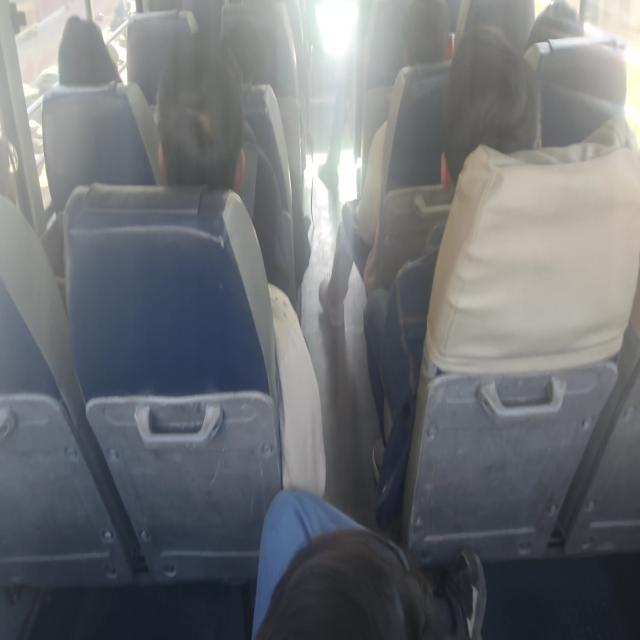person: (250, 524, 475, 640), (432, 54, 538, 214), (149, 52, 238, 205), (202, 18, 284, 106), (55, 0, 130, 86), (386, 0, 464, 81), (525, 0, 588, 56), (0, 95, 27, 206)
